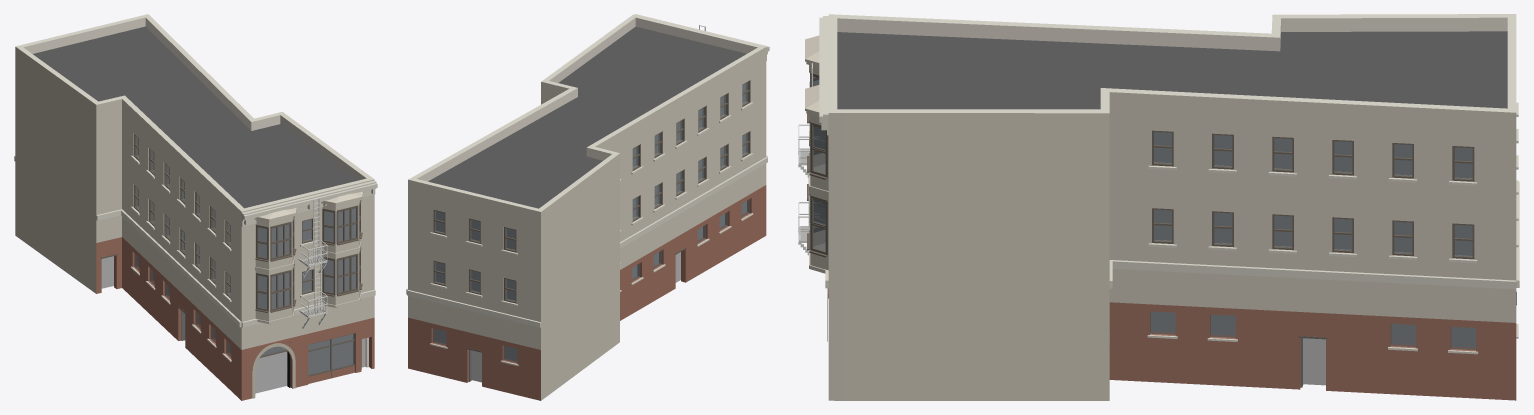
File: exterior.glb
3 renders of one model, left to right at view 1: azimuth 30°, elevation 25°; view 2: azimuth 150°, elevation 25°; view 3: azimuth 270°, elevation 25°, orthographic. The views are drawn at different scales.
Visible parts, largest first — view 1: shell, roof, shadow-proxy, bay-glazing-hyb, trim, bay-windows-hyb, glazing, frames, fire-escape, storefront, hyC-arches-7; view 2: shell, roof, glazing, trim, shadow-proxy, frames; view 3: shell, roof, glazing, shadow-proxy, trim, frames, bay-windows-hyb, bay-glazing-hyb, fire-escape.
Part boxes in pixels (x1=…): shell: x1=15, y1=14, x2=374, y2=400; roof: x1=33, y1=26, x2=357, y2=208; shadow-proxy: x1=101, y1=139, x2=365, y2=393; bay-glazing-hyb: x1=255, y1=200, x2=362, y2=312; trim: x1=14, y1=155, x2=377, y2=362; bay-windows-hyb: x1=254, y1=191, x2=363, y2=324; glazing: x1=134, y1=136, x2=353, y2=375; frames: x1=133, y1=134, x2=313, y2=298; fire-escape: x1=298, y1=198, x2=327, y2=328; storefront: x1=101, y1=254, x2=361, y2=387; hyC-arches-7: x1=252, y1=342, x2=295, y2=398; shell: x1=408, y1=14, x2=766, y2=400; roof: x1=428, y1=26, x2=746, y2=208; glazing: x1=432, y1=82, x2=749, y2=362; trim: x1=406, y1=14, x2=769, y2=366; shadow-proxy: x1=435, y1=83, x2=746, y2=382; frames: x1=433, y1=80, x2=750, y2=303; shell: x1=828, y1=14, x2=1516, y2=400; roof: x1=837, y1=31, x2=1507, y2=109; glazing: x1=1150, y1=132, x2=1475, y2=350; shadow-proxy: x1=1151, y1=132, x2=1475, y2=385; trim: x1=819, y1=16, x2=1519, y2=354; frames: x1=1152, y1=130, x2=1474, y2=259; bay-windows-hyb: x1=805, y1=35, x2=828, y2=273; bay-glazing-hyb: x1=807, y1=65, x2=827, y2=257; fire-escape: x1=798, y1=63, x2=818, y2=255.
Size of the model in its own units: 9.23 by 12.24 by 27.8.
